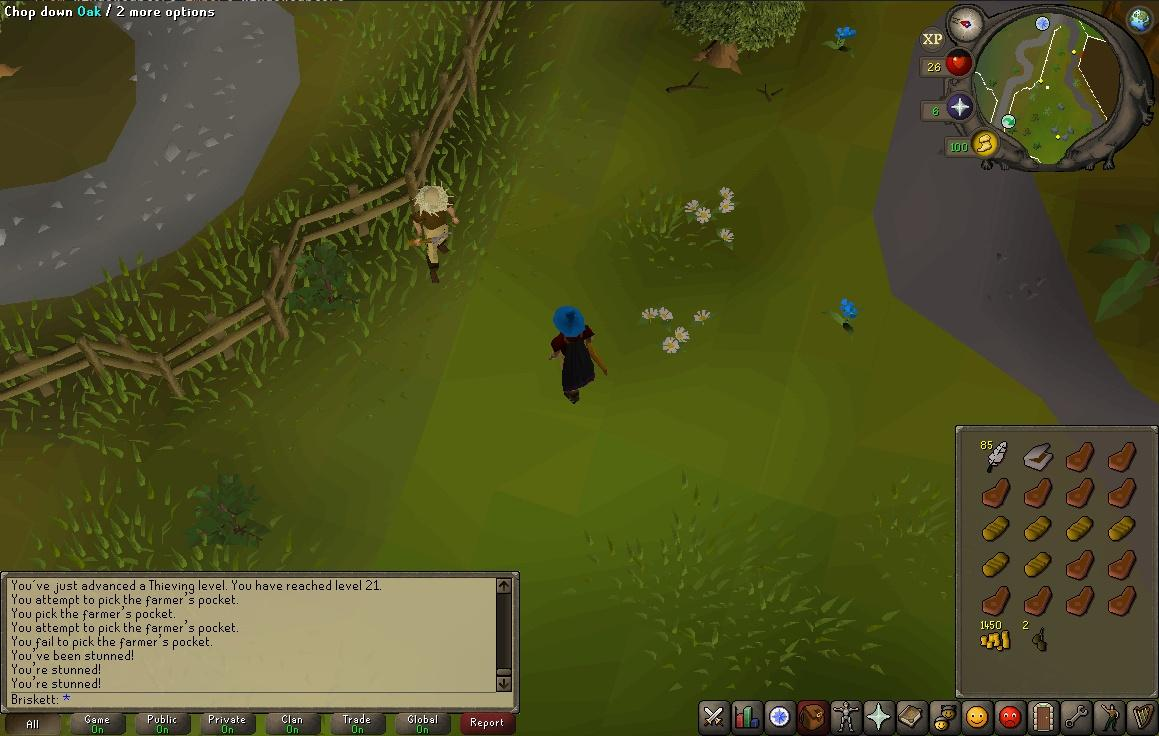Farmer: (409, 183, 460, 284)
